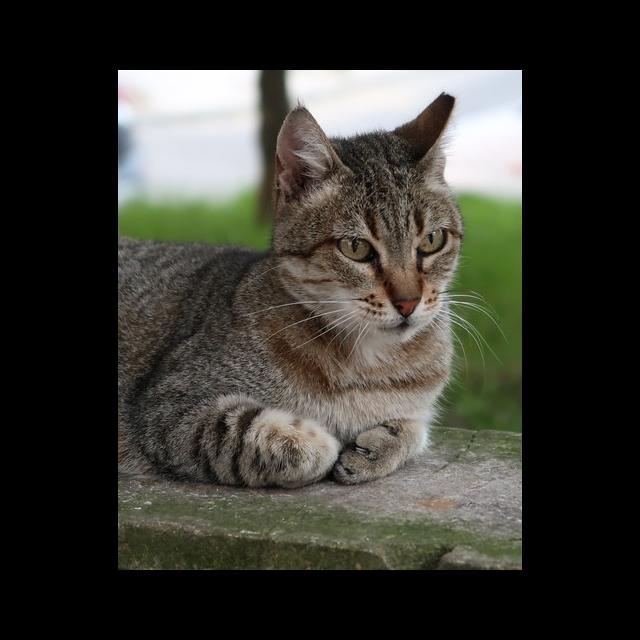animals: (118, 93, 466, 487)
